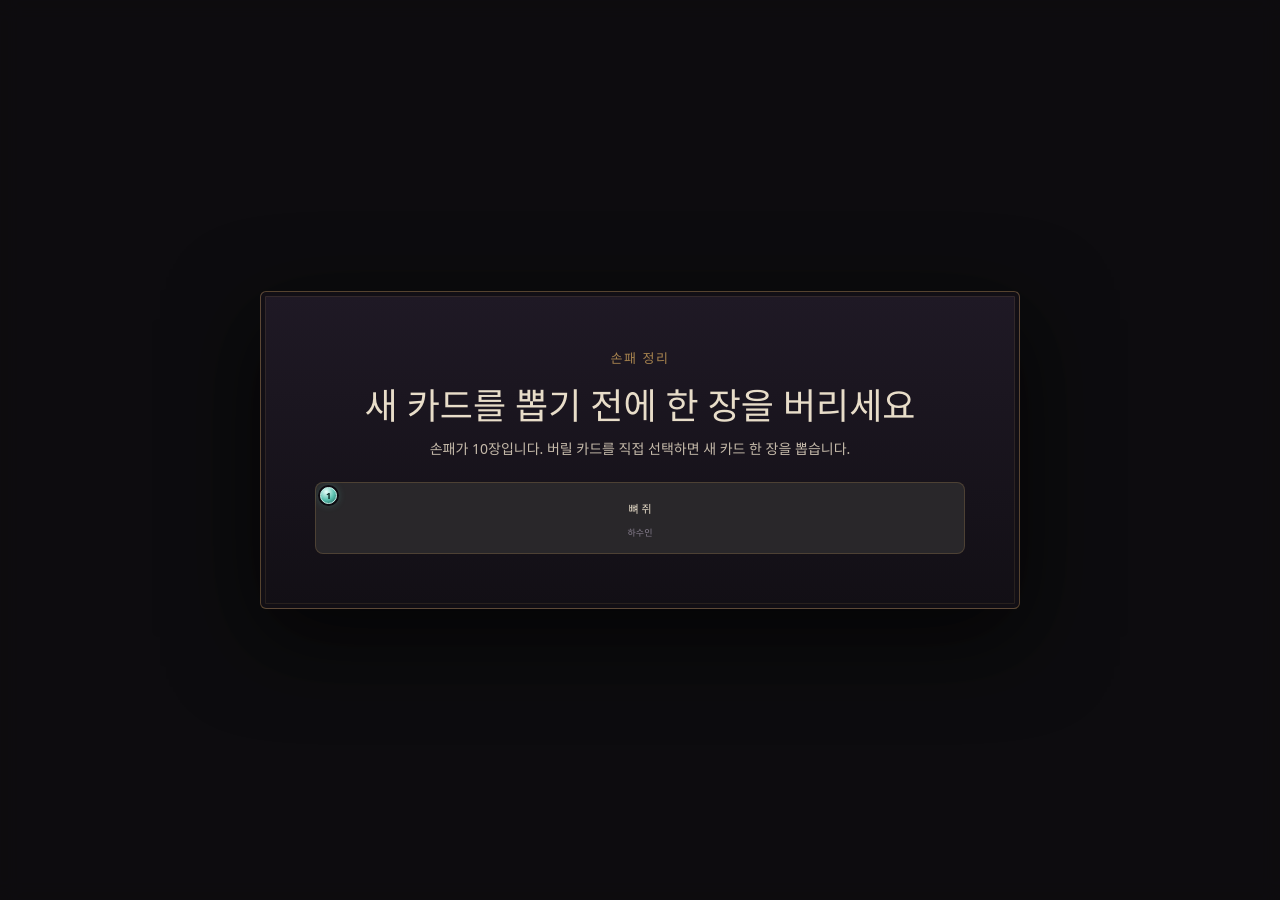
Test: DiscardPicker › inspects a discard card on a touch tap without discarding it
The image size is (1280, 900).
Click the button "1 뼈 쥐 하수인": (640, 518) [315, 482, 965, 554]
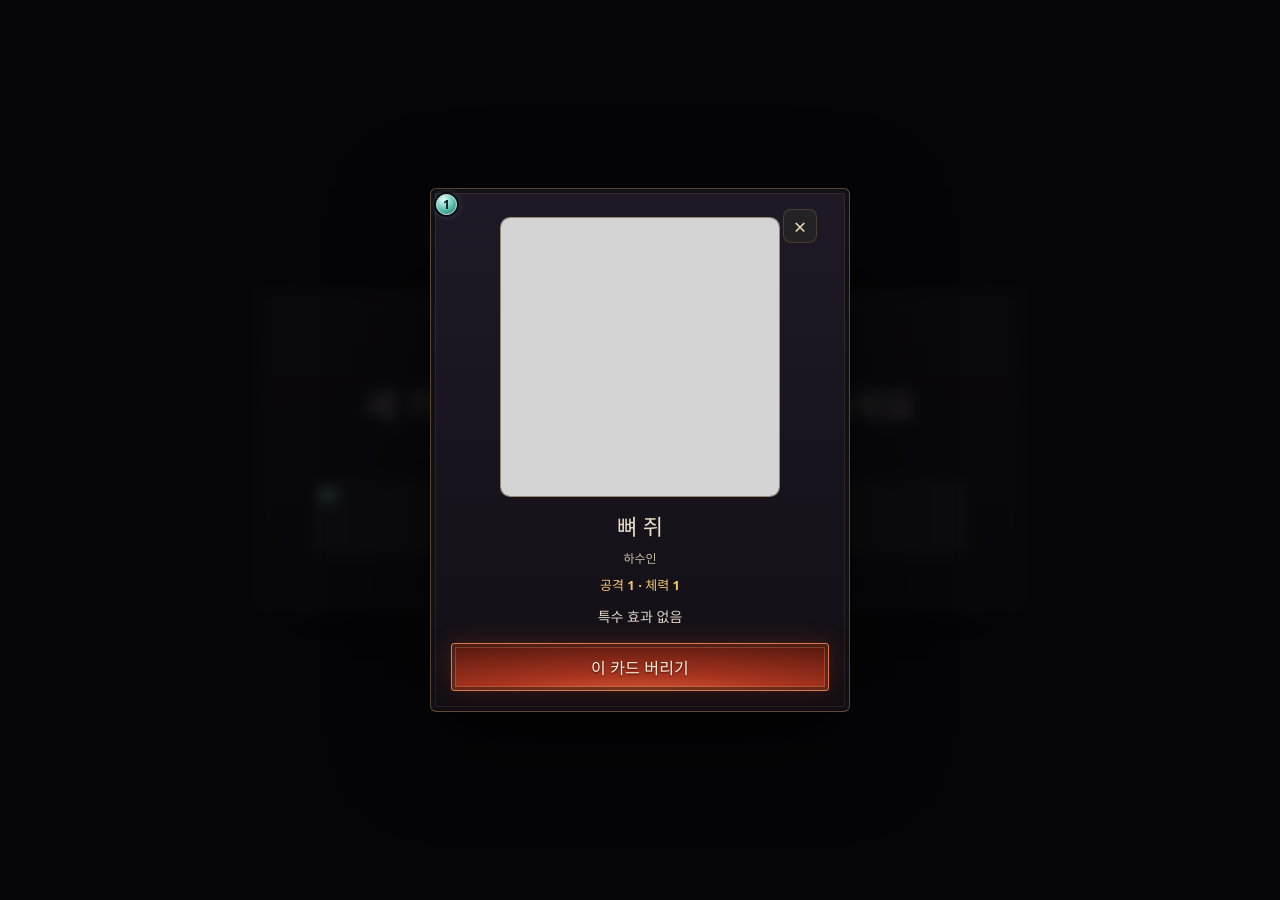
Expected: the dialog shows "뼈 쥐", [617, 515, 663, 540]
